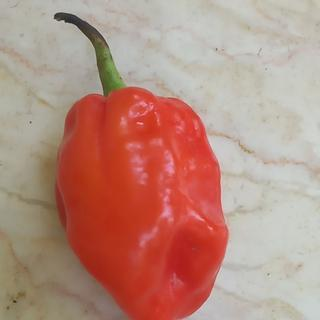Grade-A: (45, 80, 232, 318)
